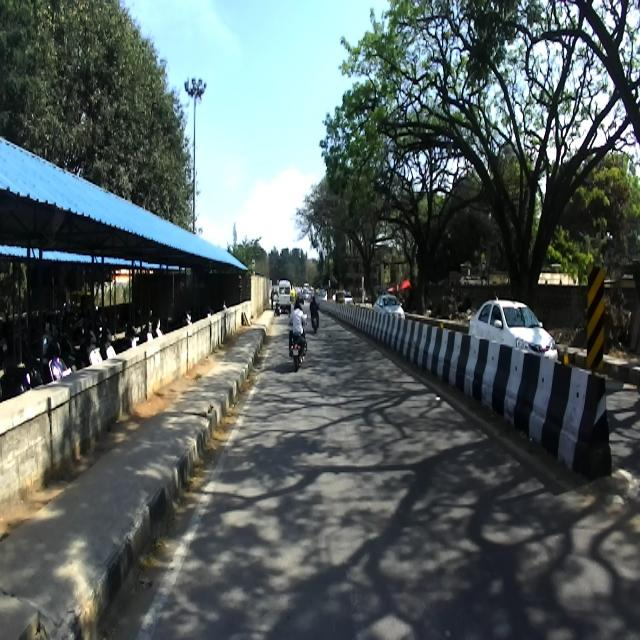car: (468, 299, 558, 360)
motorcycle: (288, 316, 307, 371)
